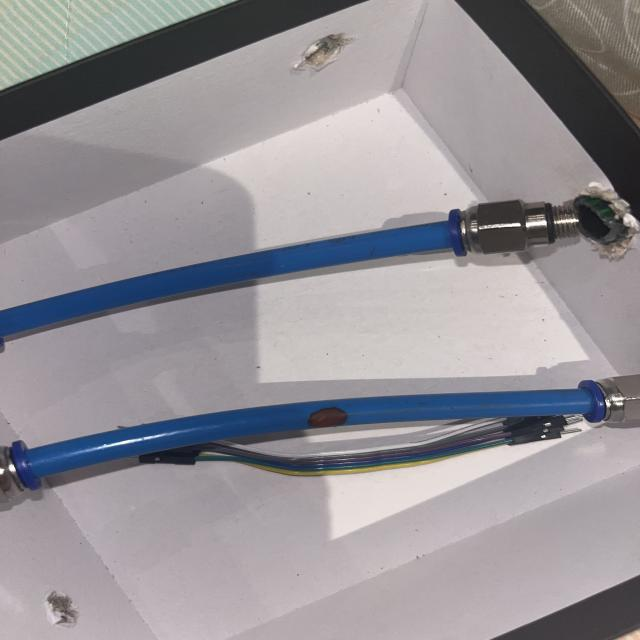hose_damage: (303, 406, 352, 429)
